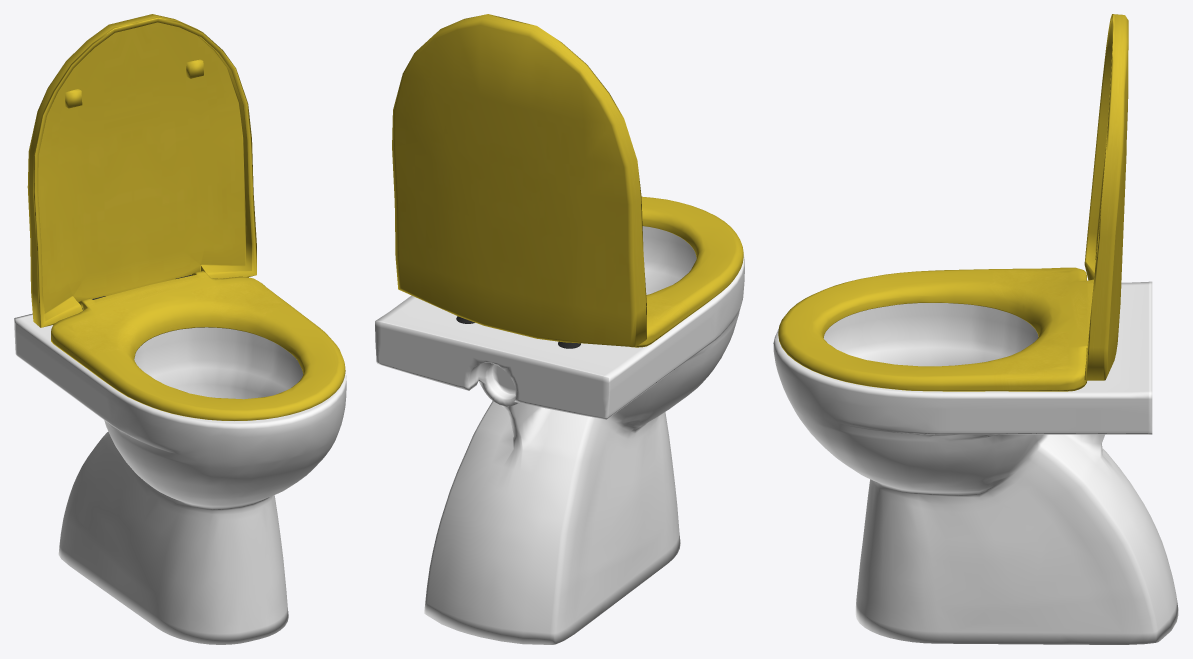
The model's file is fit-toilet-ceramic.glb.
The picture shows the model from 3 angles, left to right: view 1: azimuth 30°, elevation 25°; view 2: azimuth 150°, elevation 25°; view 3: azimuth 270°, elevation 25°; orthographic projection. The views are drawn at different scales.
Size of the model in its own units: 0.3688 by 0.8596 by 0.5394.
3 materials, 3 textured.
